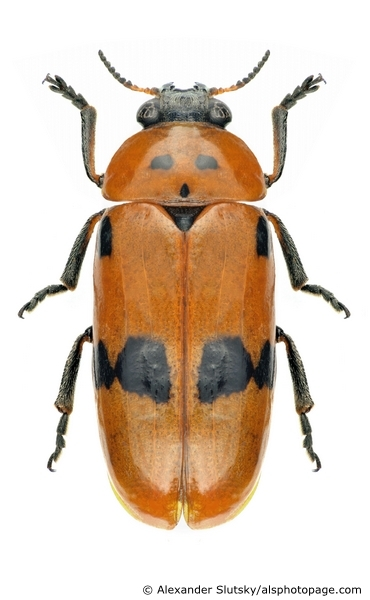Clytra_novempunctata: (11, 33, 352, 549)
